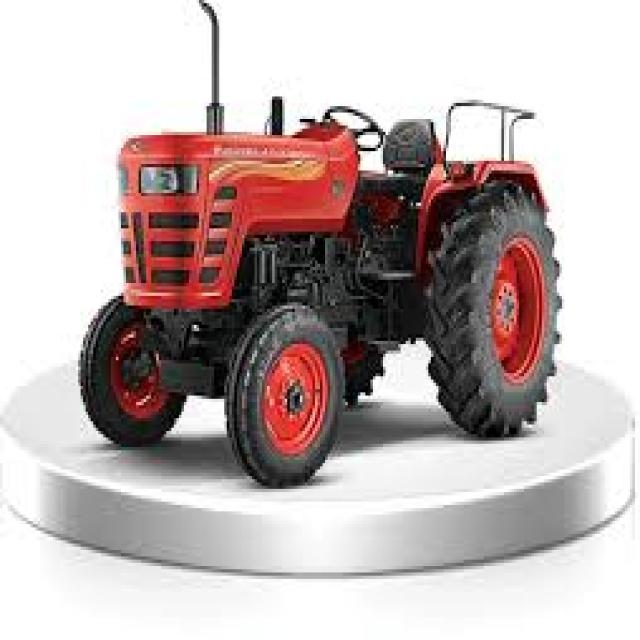tractor: (81, 103, 557, 486)
